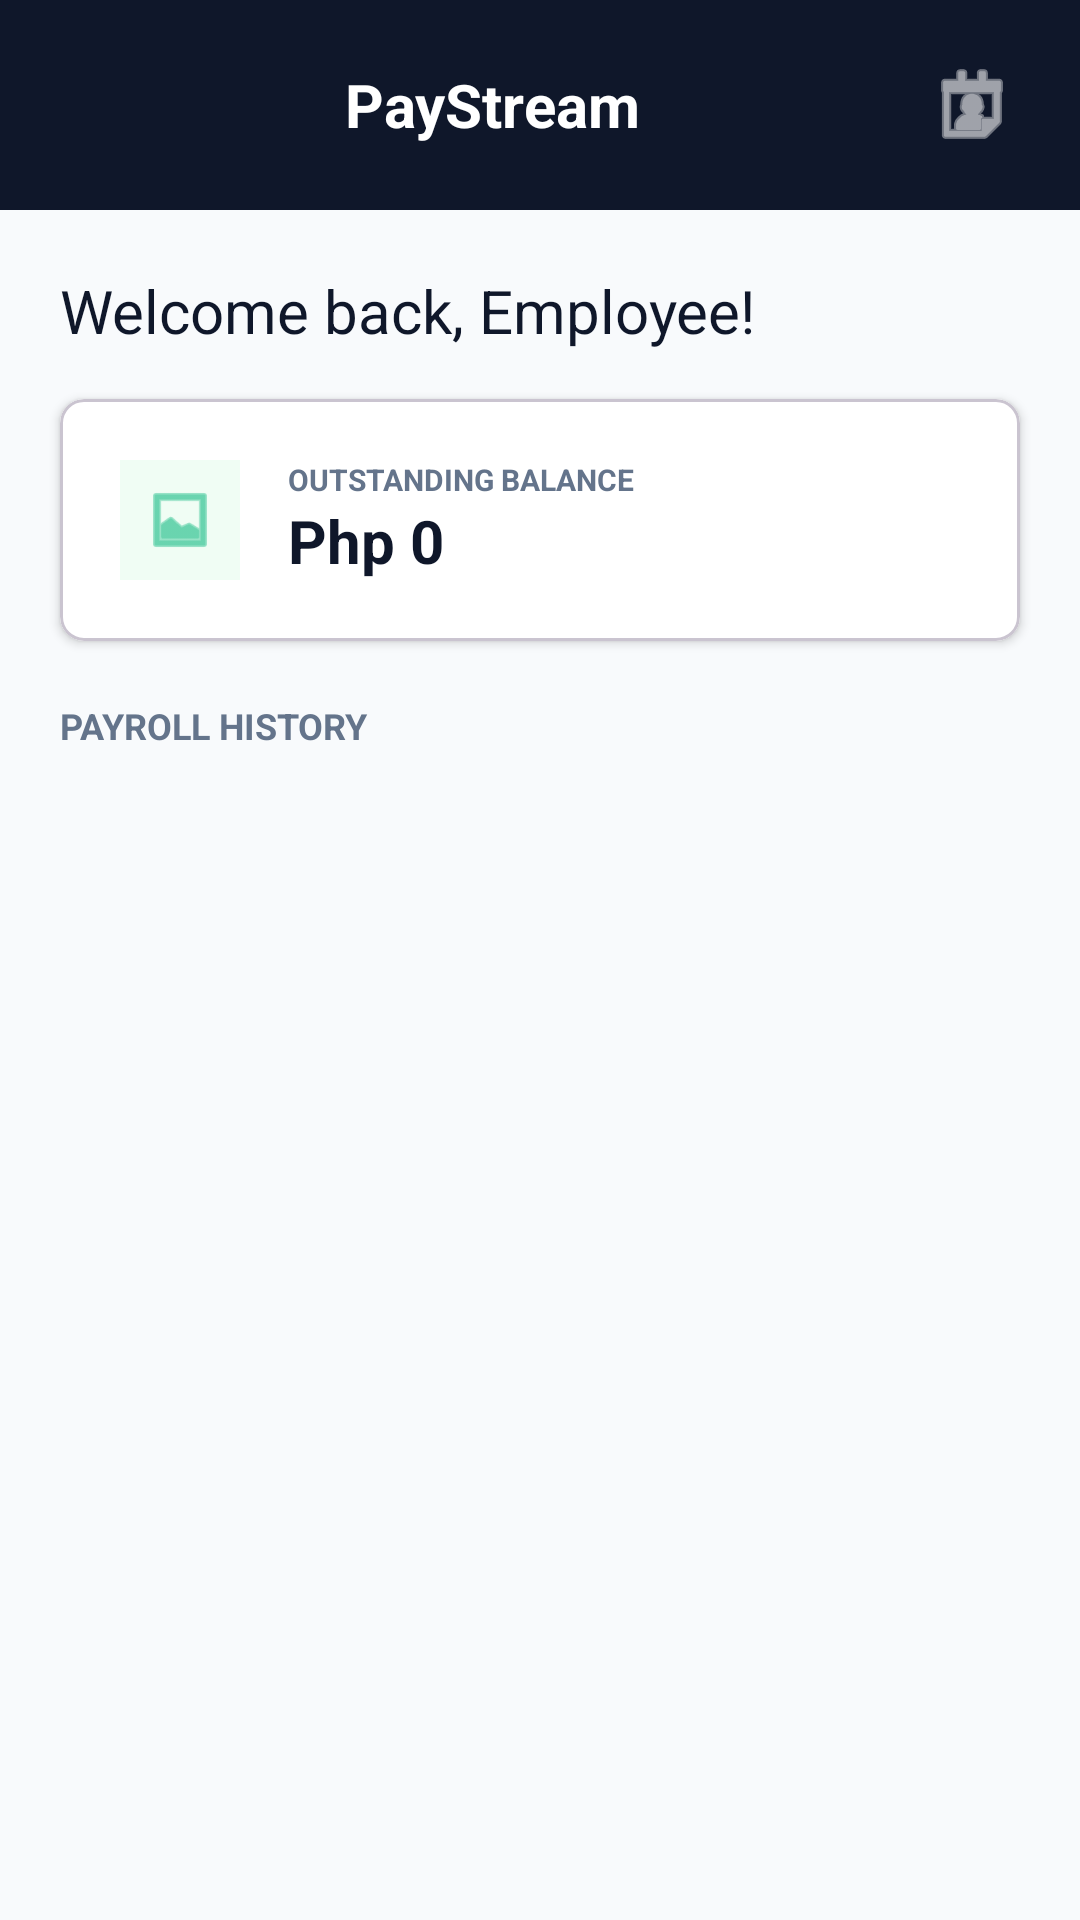

Where to tap for icons on this 1080 x 1920 app screen, as (x=x, y=y):
calendar: (x=972, y=104)
gallery: (x=180, y=520)
